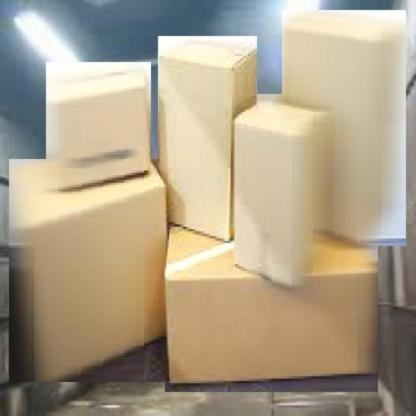-: (7, 156, 169, 386), (161, 229, 383, 395), (280, 7, 409, 250), (157, 32, 259, 251), (233, 91, 325, 299), (45, 60, 153, 197)
